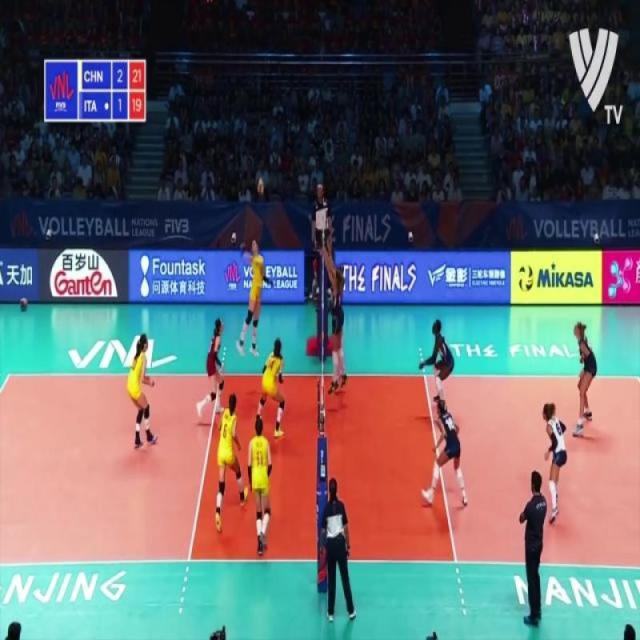volleyball: (517, 264, 534, 292), (257, 177, 264, 196)
